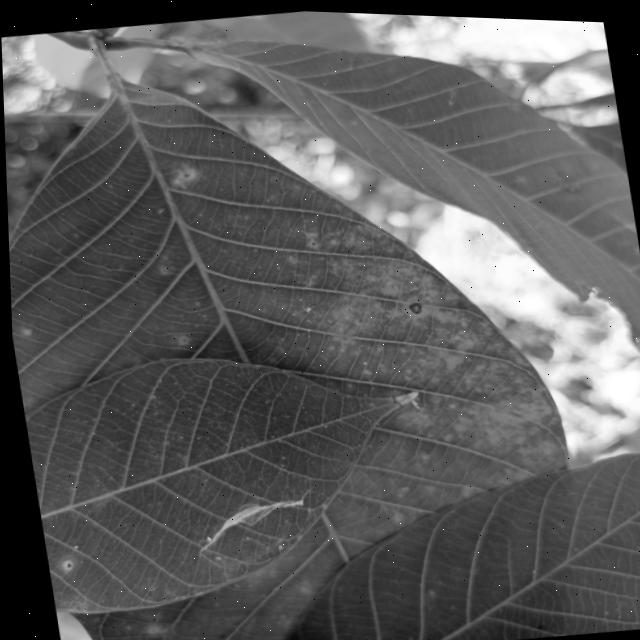Colletotrichum: (406, 299, 420, 311)
Leaf-Blight: (389, 387, 417, 404)
